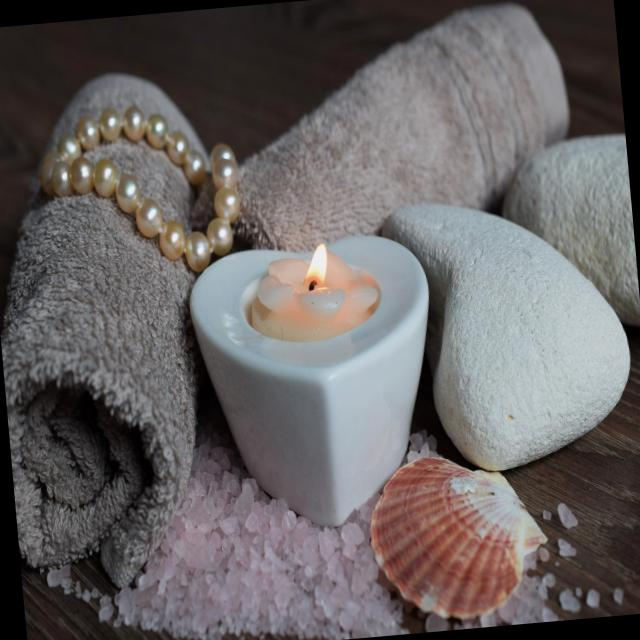Fire_Save: (244, 236, 384, 346)
